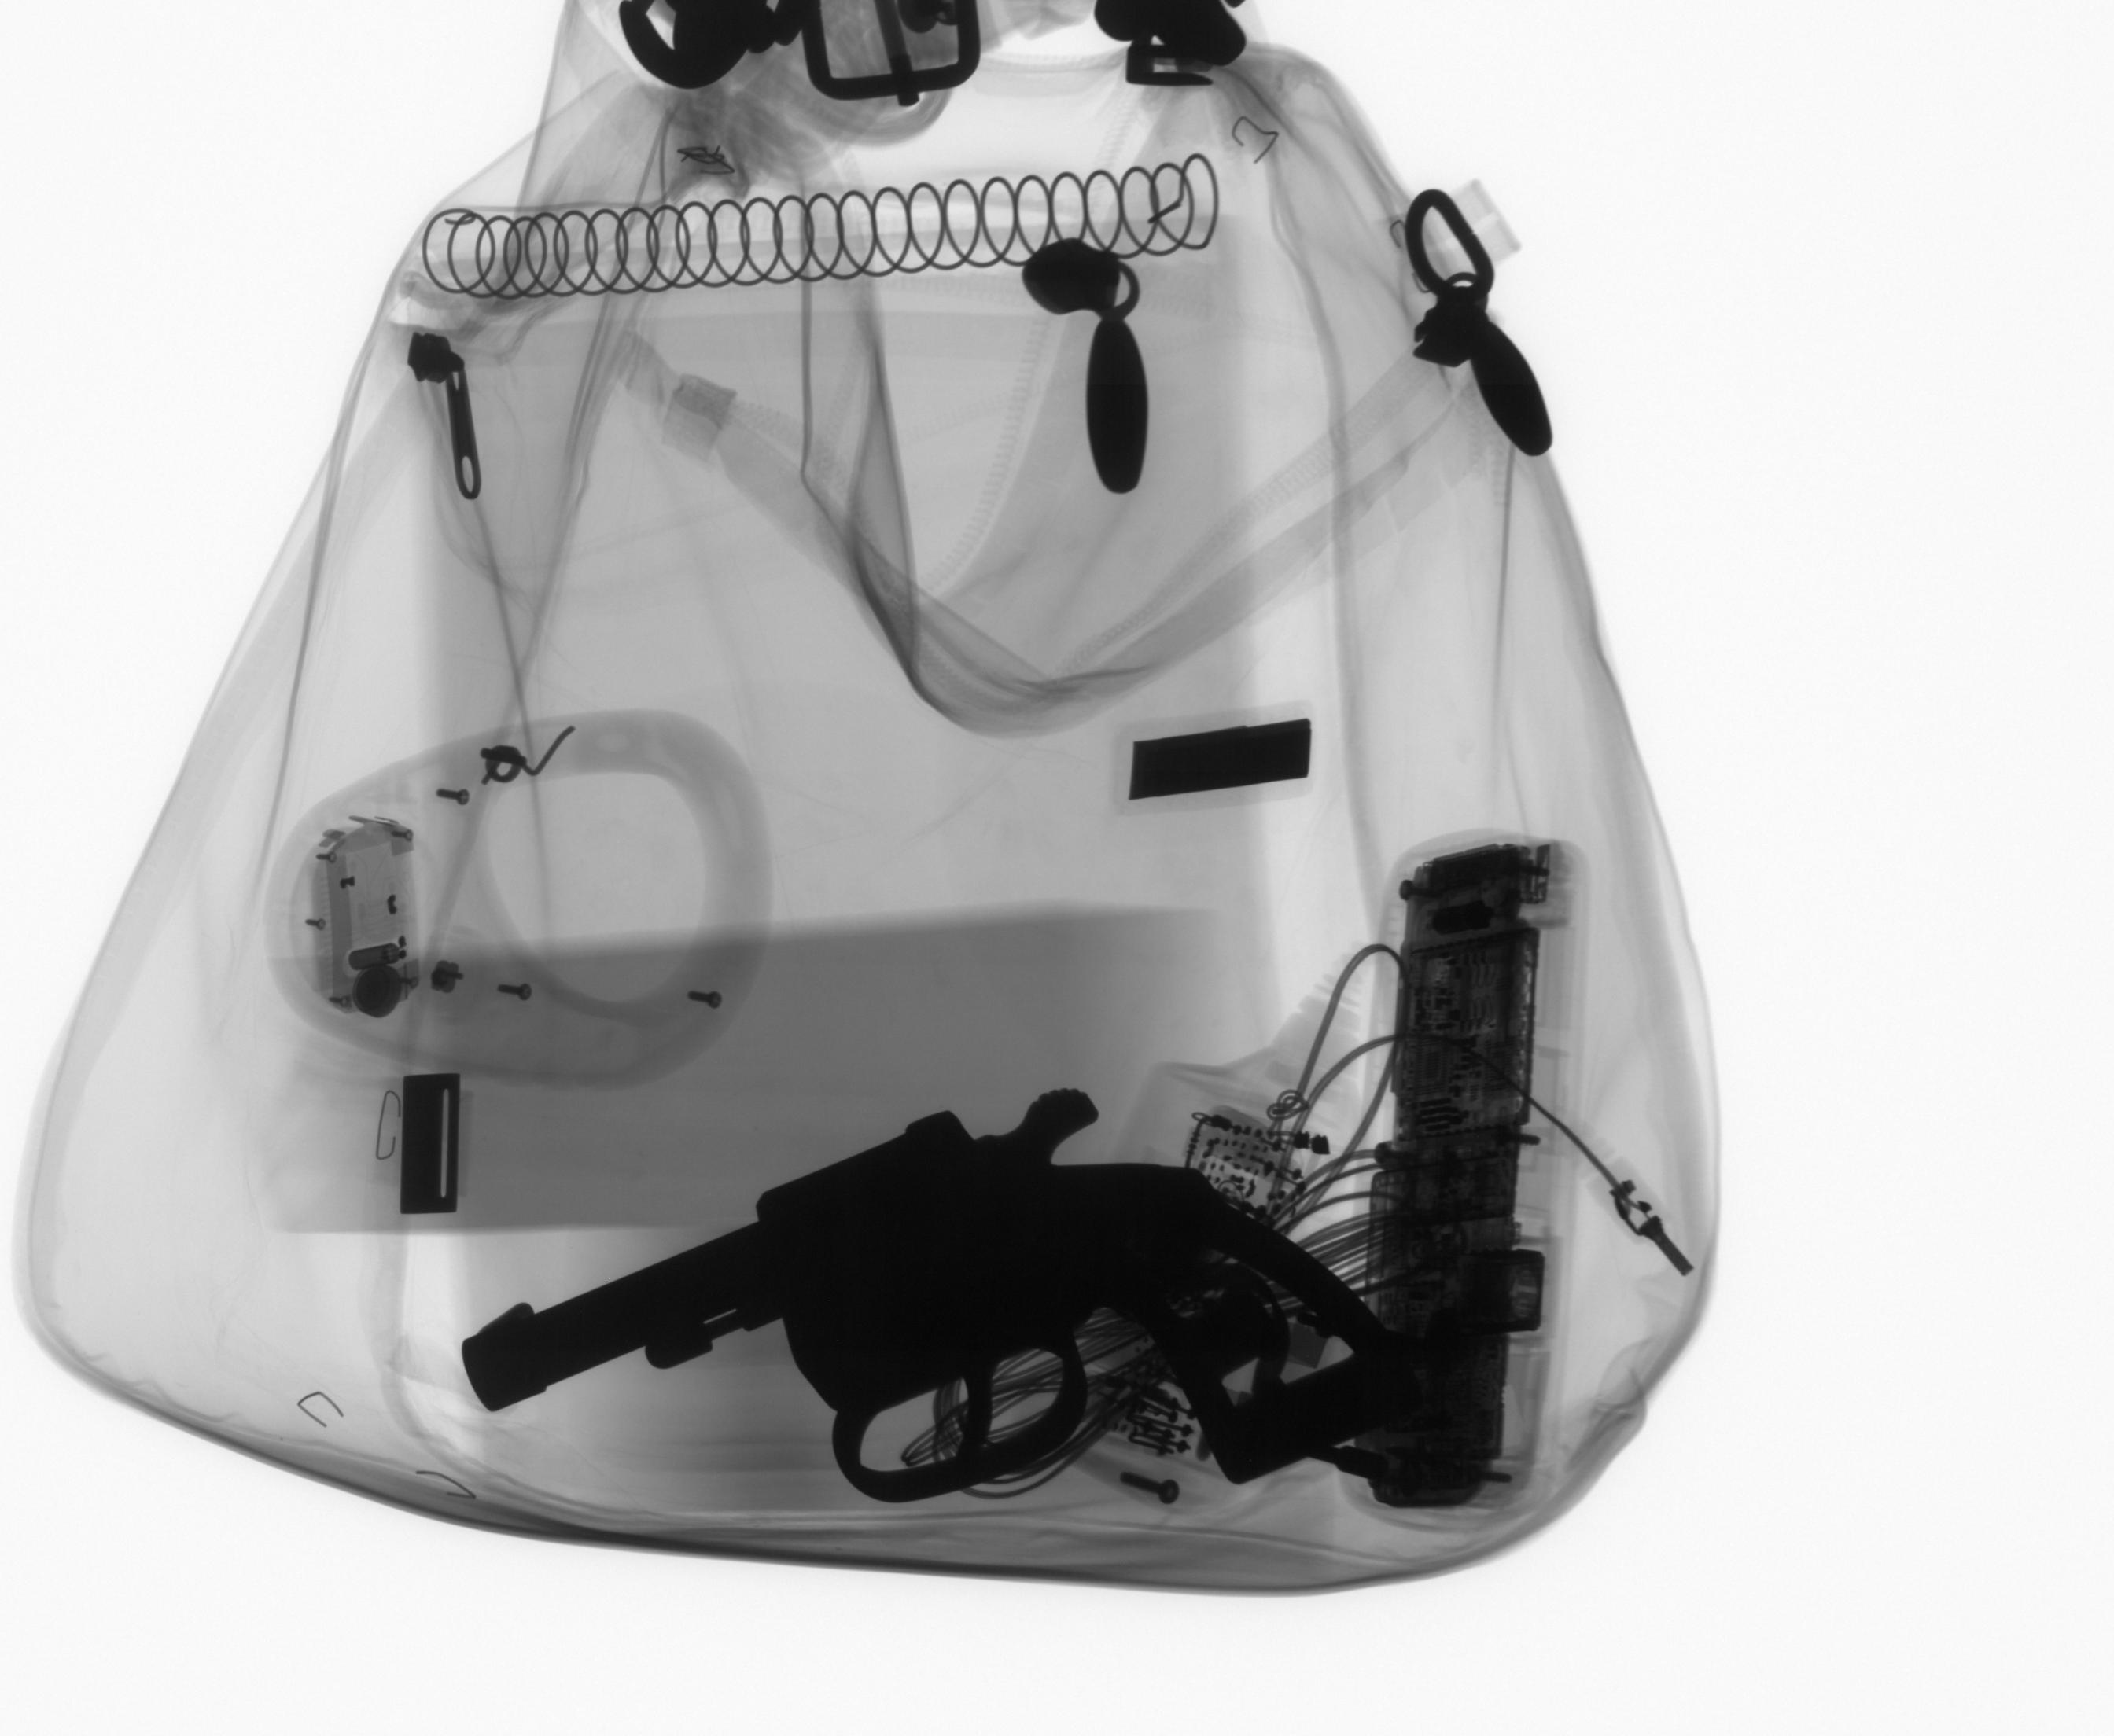Handgun: (451, 1079, 1427, 1532)
